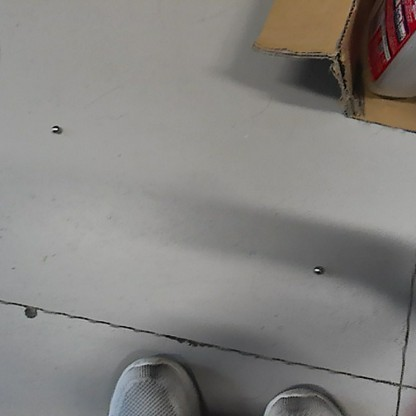ironball: (311, 261, 326, 276), (49, 123, 60, 134)
